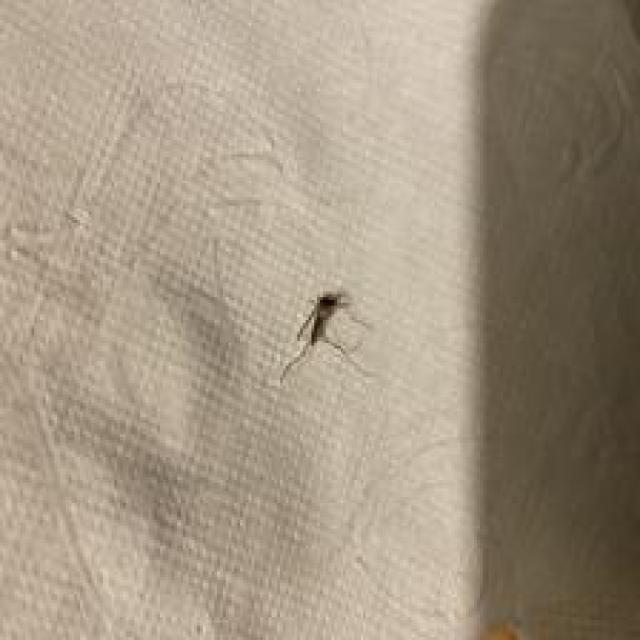Culex: (277, 288, 374, 386)
